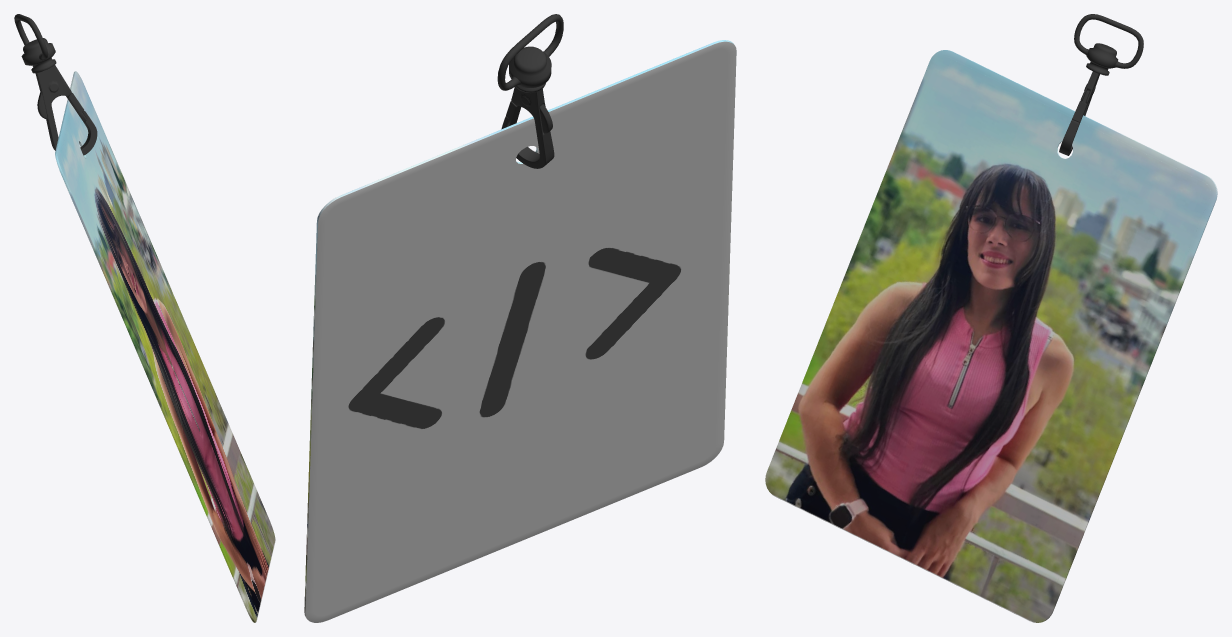
File: card.glb
3 views of the same model, side by side, from view 1: azimuth 30°, elevation 25°; view 2: azimuth 150°, elevation 25°; view 3: azimuth 270°, elevation 25° (orthographic). The views are drawn at different scales.
Parts seen in each view (by area): view 1: card, clamp, clip; view 2: card, clip, clamp; view 3: card, clip, clamp.
Boxes of the visible parts, x1,y1,x2,y2 form: card: [55, 71, 275, 622]; clamp: [35, 65, 97, 155]; clip: [14, 14, 56, 73]; card: [304, 40, 736, 622]; clip: [497, 14, 563, 93]; clamp: [501, 86, 554, 168]; card: [765, 50, 1217, 622]; clip: [1074, 14, 1143, 75]; clamp: [1059, 71, 1099, 155].
Size of the model in its own units: 0.6077 by 1.16 by 0.9304.
Materials: 2 (1 with a texture image).
